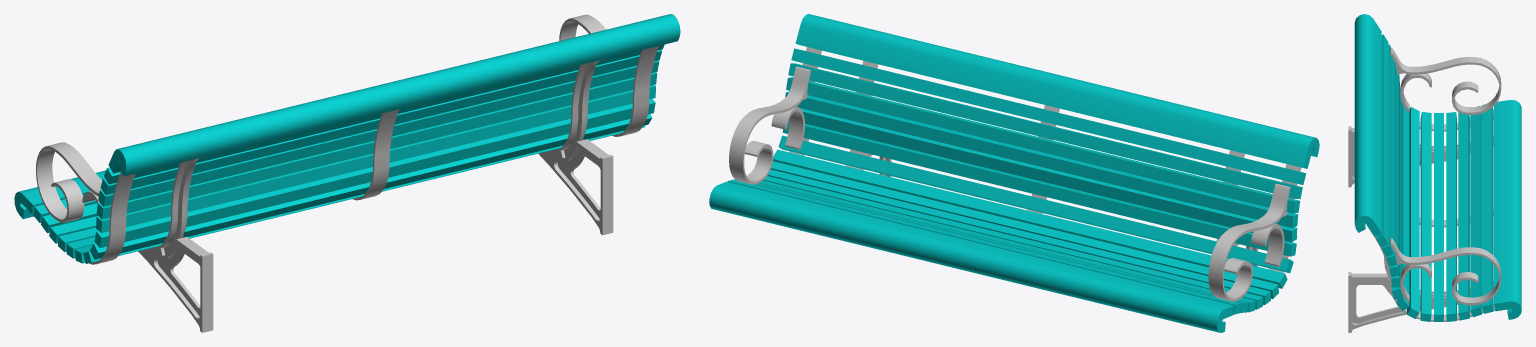
3 views of the same model, side by side, from view 1: azimuth 30°, elevation 25°; view 2: azimuth 150°, elevation 25°; view 3: azimuth 270°, elevation 25° (orthographic). The views are drawn at different scales.
Visible parts, largest first — view 1: mesh1_mesh1-geometry, mesh5_mesh5-geometry, mesh10_mesh10-geometry, mesh8_mesh8-geometry, mesh14_mesh14-geometry, mesh21_mesh21-geometry, mesh3_mesh3-geometry; view 2: mesh1_mesh1-geometry, mesh5_mesh5-geometry, mesh3_mesh3-geometry, mesh14_mesh14-geometry, mesh8_mesh8-geometry; view 3: mesh1_mesh1-geometry, mesh5_mesh5-geometry, mesh3_mesh3-geometry, mesh14_mesh14-geometry, mesh10_mesh10-geometry, mesh8_mesh8-geometry, mesh21_mesh21-geometry.
Boxes of the visible parts, x1,y1,x2,y2 form: mesh1_mesh1-geometry: (33, 44, 664, 263); mesh5_mesh5-geometry: (108, 14, 680, 176); mesh10_mesh10-geometry: (138, 139, 613, 332); mesh8_mesh8-geometry: (89, 46, 658, 264); mesh14_mesh14-geometry: (36, 14, 605, 222); mesh21_mesh21-geometry: (151, 58, 607, 254); mesh3_mesh3-geometry: (14, 170, 105, 218); mesh1_mesh1-geometry: (727, 48, 1306, 314); mesh5_mesh5-geometry: (795, 14, 1319, 168); mesh3_mesh3-geometry: (709, 181, 1233, 332); mesh14_mesh14-geometry: (729, 66, 1290, 301); mesh8_mesh8-geometry: (789, 47, 1301, 272); mesh1_mesh1-geometry: (1376, 34, 1493, 321); mesh5_mesh5-geometry: (1354, 14, 1381, 236); mesh3_mesh3-geometry: (1494, 100, 1521, 319); mesh14_mesh14-geometry: (1390, 47, 1501, 305); mesh10_mesh10-geometry: (1348, 126, 1458, 332); mesh8_mesh8-geometry: (1367, 113, 1495, 321); mesh21_mesh21-geometry: (1384, 136, 1493, 299).
Size of the model in its own units: 0.8397 by 0.2786 by 0.3056.
